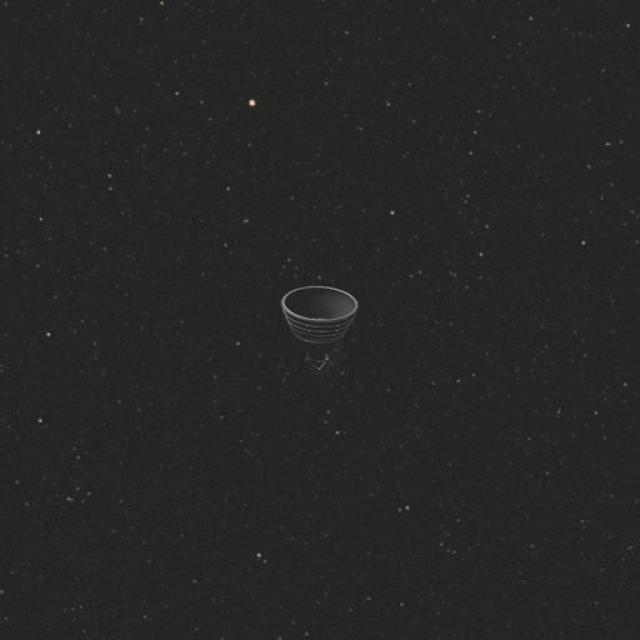debris: (265, 262, 380, 404)
